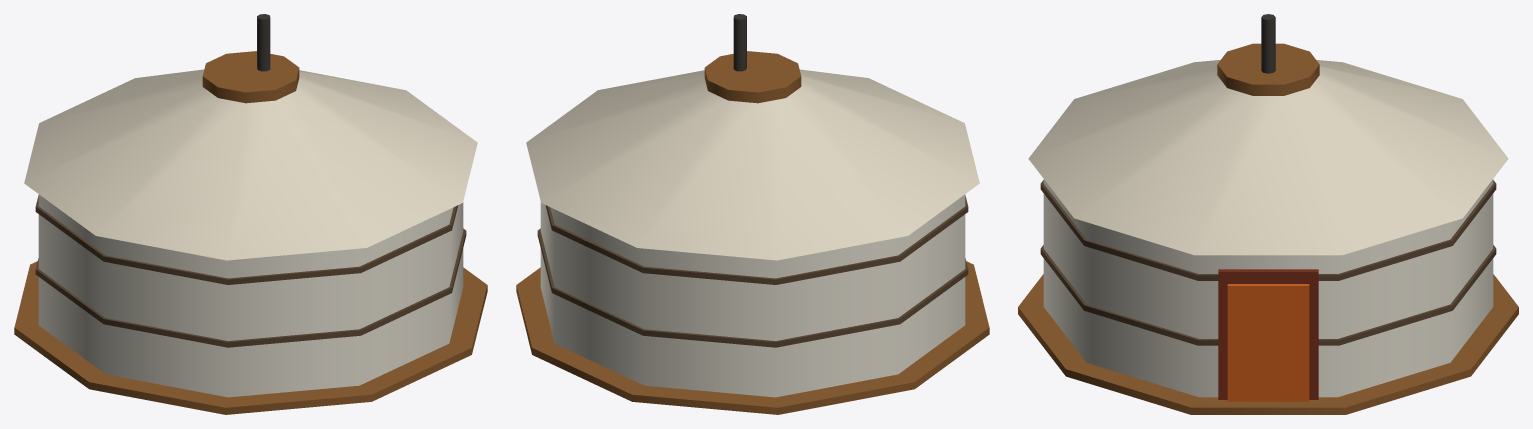
The model's file is yurta_comun.glb.
3 renders of one model, left to right at view 1: azimuth 30°, elevation 25°; view 2: azimuth 150°, elevation 25°; view 3: azimuth 270°, elevation 25°, orthographic. The views are drawn at different scales.
Parts seen in each view (by area): view 1: Mesh_Roof, Mesh_Wall, Mesh_Platform, Mesh_Crown, Mesh_RopeBand0, Mesh_RopeBand1, Mesh_StovePipe; view 2: Mesh_Roof, Mesh_Wall, Mesh_Platform, Mesh_Crown, Mesh_RopeBand0, Mesh_RopeBand1, Mesh_StovePipe; view 3: Mesh_Roof, Mesh_Wall, Mesh_Platform, Mesh_Door, Mesh_Crown, Mesh_DoorFrame, Mesh_RopeBand1, Mesh_RopeBand0, Mesh_StovePipe.
Boxes of the visible parts, left/top/right/bottom form: Mesh_Roof: left=24, top=69, right=477, bottom=260; Mesh_Wall: left=38, top=194, right=463, bottom=397; Mesh_Platform: left=14, top=261, right=487, bottom=414; Mesh_Crown: left=202, top=51, right=299, bottom=103; Mesh_RopeBand0: left=35, top=228, right=466, bottom=347; Mesh_RopeBand1: left=35, top=195, right=458, bottom=284; Mesh_StovePipe: left=257, top=14, right=270, bottom=71; Mesh_Roof: left=526, top=69, right=979, bottom=260; Mesh_Wall: left=540, top=194, right=965, bottom=397; Mesh_Platform: left=516, top=261, right=989, bottom=414; Mesh_Crown: left=704, top=51, right=801, bottom=103; Mesh_RopeBand0: left=537, top=228, right=968, bottom=347; Mesh_RopeBand1: left=545, top=195, right=968, bottom=284; Mesh_StovePipe: left=733, top=14, right=746, bottom=71; Mesh_Roof: left=1028, top=60, right=1508, bottom=255; Mesh_Wall: left=1043, top=179, right=1493, bottom=397; Mesh_Platform: left=1018, top=274, right=1518, bottom=414; Mesh_Door: left=1227, top=284, right=1309, bottom=401; Mesh_Crown: left=1217, top=43, right=1319, bottom=95; Mesh_DoorFrame: left=1218, top=269, right=1318, bottom=399; Mesh_RopeBand1: left=1040, top=180, right=1496, bottom=280; Mesh_RopeBand0: left=1040, top=245, right=1496, bottom=345; Mesh_StovePipe: left=1261, top=14, right=1275, bottom=73.
Bounding box in the file's own units: 4.66 × 3.28 × 4.9.
